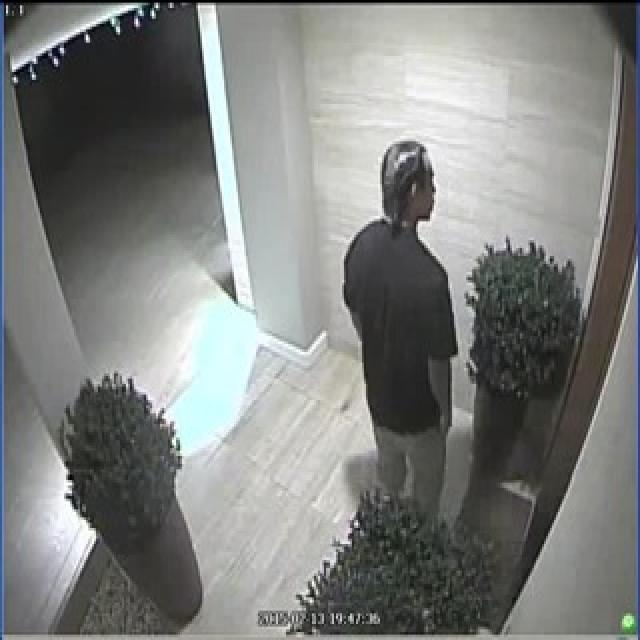thief: (342, 125, 459, 505)
